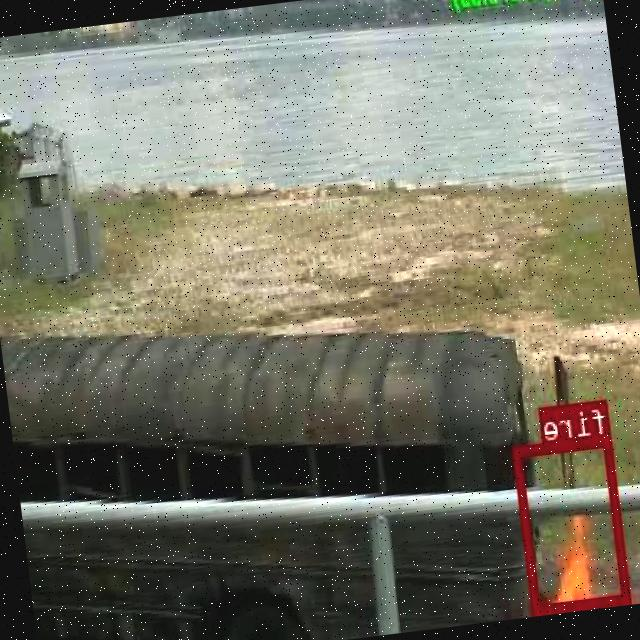fire: (514, 434, 632, 612)
